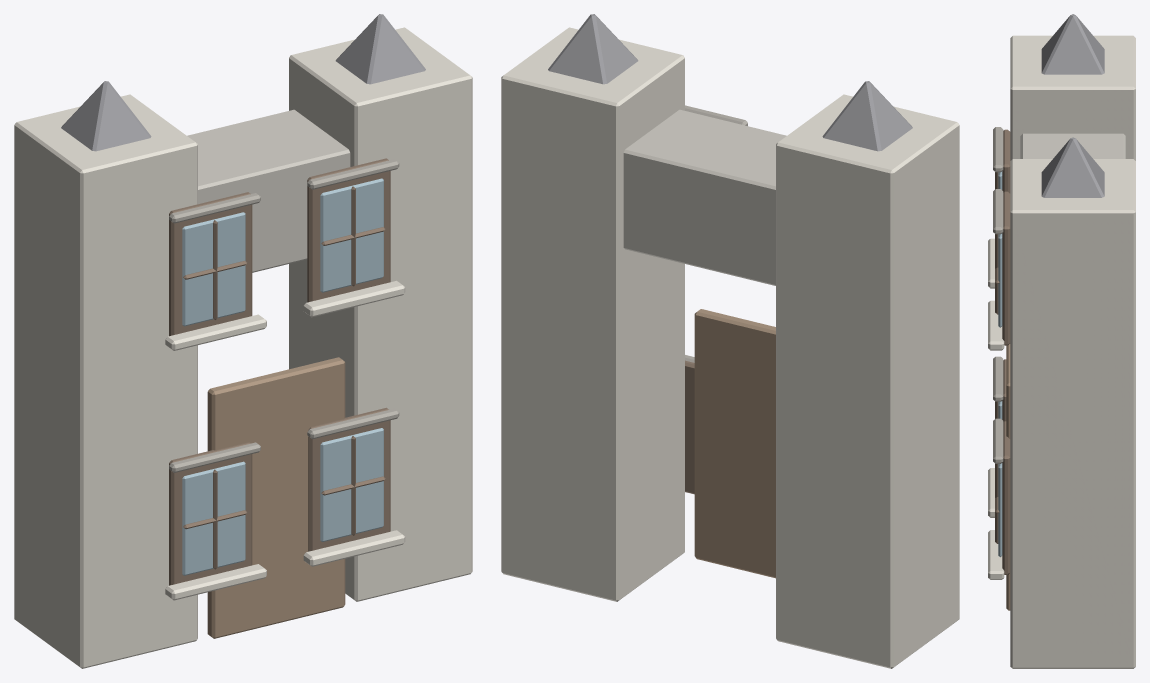
The model's file is gate.glb.
3 views of the same model, side by side, from view 1: azimuth 30°, elevation 25°; view 2: azimuth 150°, elevation 25°; view 3: azimuth 270°, elevation 25° (orthographic). The views are drawn at different scales.
Visible parts, largest first — view 1: tower, tower.001, door, arch, wglass.002, wglass.001, wglass.003, wglass, wframe.002, wframe, troof, troof.001 (+10 smaller); view 2: tower, tower.001, arch, door, troof, troof.001, wframe.001; view 3: tower.001, tower, troof, troof.001, arch, wframe.003, wframe.001, door, wsill.003, wsill.001, wframe.002, wlintel (+10 smaller).
Part boxes in pixels (left/top/right/bottom): tower: left=14, top=94, right=197, bottom=668; tower.001: left=289, top=27, right=472, bottom=601; door: left=207, top=357, right=345, bottom=638; arch: left=187, top=109, right=350, bottom=272; wglass.002: left=182, top=212, right=245, bottom=326; wglass.001: left=320, top=428, right=383, bottom=541; wglass.003: left=320, top=178, right=383, bottom=292; wglass: left=182, top=461, right=245, bottom=575; wframe.002: left=169, top=192, right=252, bottom=336; wframe: left=169, top=442, right=252, bottom=585; troof: left=61, top=81, right=151, bottom=151; troof.001: left=335, top=14, right=425, bottom=84; tower: left=776, top=94, right=959, bottom=668; tower.001: left=501, top=27, right=684, bottom=601; arch: left=623, top=109, right=786, bottom=285; door: left=694, top=309, right=775, bottom=578; troof: left=822, top=81, right=912, bottom=151; troof.001: left=548, top=14, right=638, bottom=84; wframe.001: left=685, top=360, right=694, bottom=494; tower.001: left=1010, top=159, right=1135, bottom=668; tower: left=1010, top=35, right=1135, bottom=160; troof: left=1041, top=14, right=1104, bottom=74; troof.001: left=1041, top=137, right=1104, bottom=197; arch: left=1020, top=133, right=1125, bottom=158; wframe.003: left=1002, top=191, right=1010, bottom=345; wframe.001: left=1002, top=421, right=1010, bottom=574; door: left=1006, top=344, right=1010, bottom=610; wsill.003: left=988, top=300, right=1004, bottom=350; wsill.001: left=988, top=530, right=1004, bottom=579; wframe.002: left=1002, top=129, right=1010, bottom=193; wlintel: left=993, top=356, right=1003, bottom=401.
Size of the model in its own units: 2.06 by 2.75 by 0.73.
